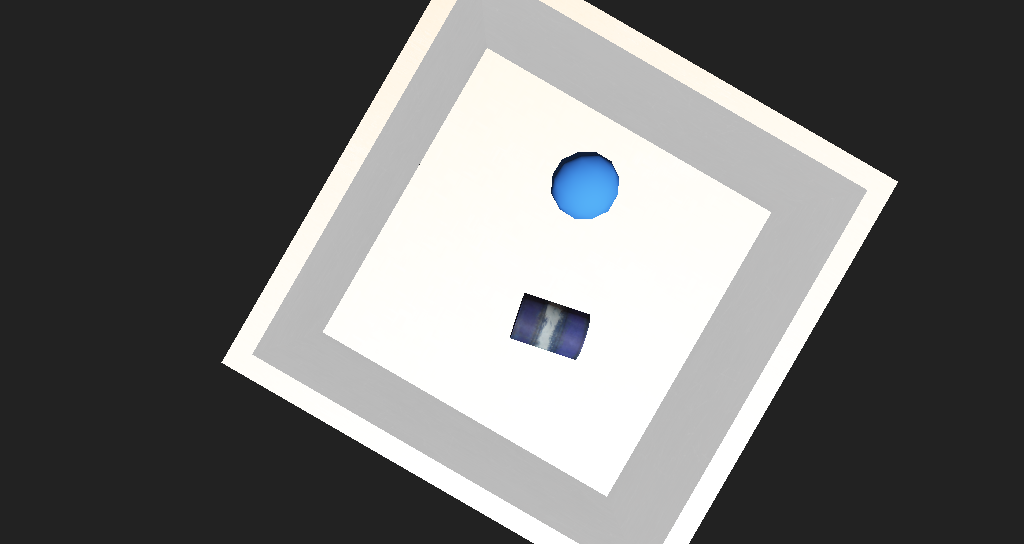cone: (435, 262, 495, 310)
sphere: (563, 241, 623, 284)
